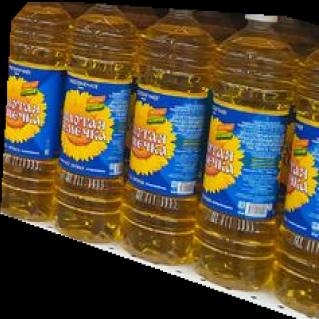oil: (0, 1, 319, 319)
